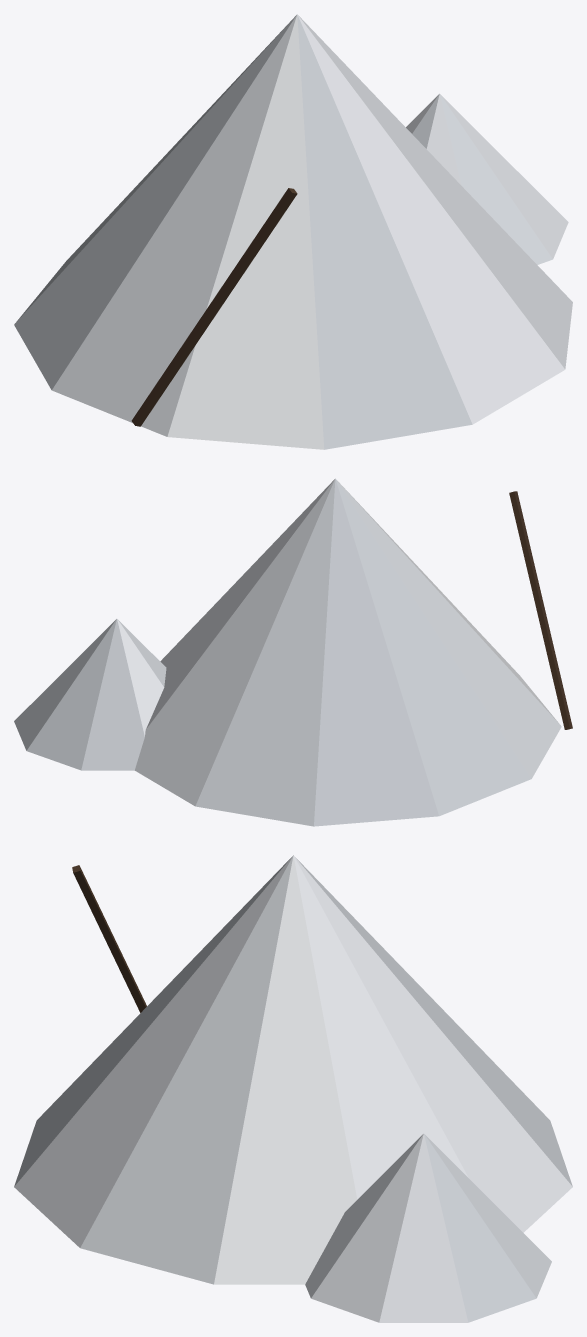
The model's file is walk_prop_salt_heap.glb.
The picture shows the model from 3 angles, top to bottom: view 1: azimuth 30°, elevation 25°; view 2: azimuth 150°, elevation 25°; view 3: azimuth 270°, elevation 25°; orthographic projection. The views are drawn at different scales.
Visible parts, largest first — view 1: walk_prop_salt_heap; view 2: walk_prop_salt_heap; view 3: walk_prop_salt_heap.
Part boxes in pixels (left/top/right/bottom): walk_prop_salt_heap: left=14, top=14, right=572, bottom=449; walk_prop_salt_heap: left=14, top=478, right=572, bottom=826; walk_prop_salt_heap: left=14, top=855, right=572, bottom=1322.
Size of what is drawn, in the model's own units: 2.96 by 1.6 by 2.57.
1 material, 1 textured.
